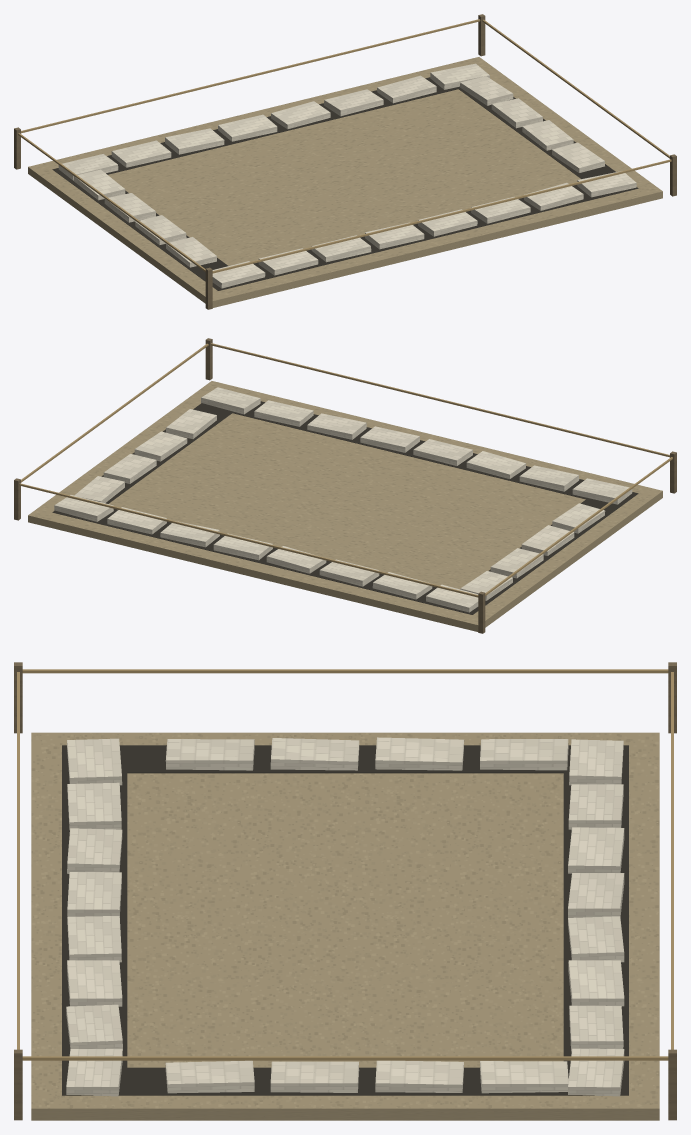
Rendered from pol-1-site.glb.
The picture shows the model from 3 angles, top to bottom: view 1: azimuth 30°, elevation 25°; view 2: azimuth 150°, elevation 25°; view 3: azimuth 270°, elevation 25°; orthographic projection. The views are drawn at different scales.
Bounding box in the file's own units: 21.2 × 2.02 × 15.2.
5 materials, 3 textured.
